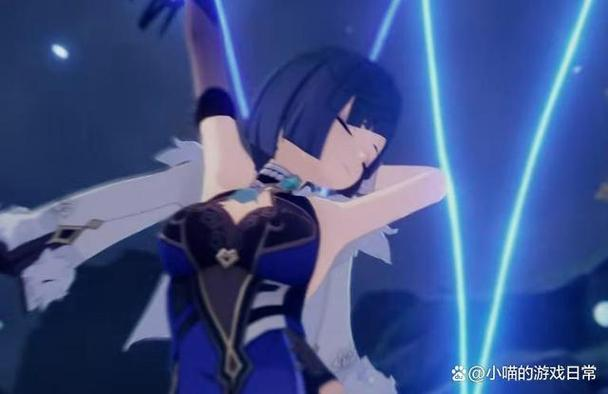夜兰: (133, 1, 450, 394)
